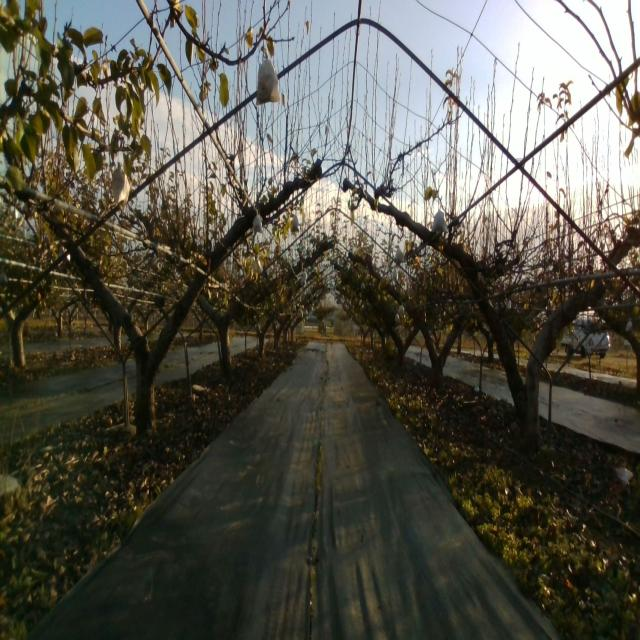pearbags: (256, 46, 280, 106), (110, 167, 130, 211), (431, 209, 448, 233)
